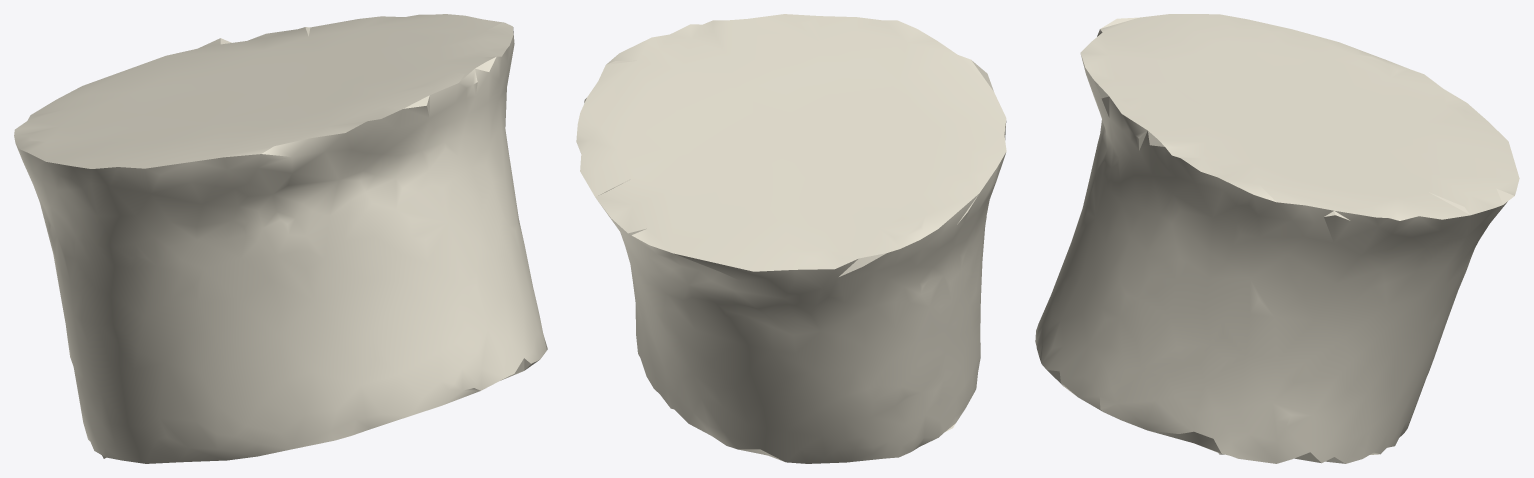
Rendered from fma23481_mm1901m.glb.
The picture shows the model from 3 angles, left to right: view 1: azimuth 30°, elevation 25°; view 2: azimuth 150°, elevation 25°; view 3: azimuth 270°, elevation 25°; orthographic projection. The views are drawn at different scales.
Parts seen in each view (by area): view 1: FMA23481_MM1901M; view 2: FMA23481_MM1901M; view 3: FMA23481_MM1901M.
Boxes of the visible parts, x1,y1,x2,y2 form: FMA23481_MM1901M: (14,14,547,463); FMA23481_MM1901M: (576,14,1006,463); FMA23481_MM1901M: (1035,14,1519,463).
Bounding box in the file's own units: 0.0173 × 0.0142 × 0.0172.
